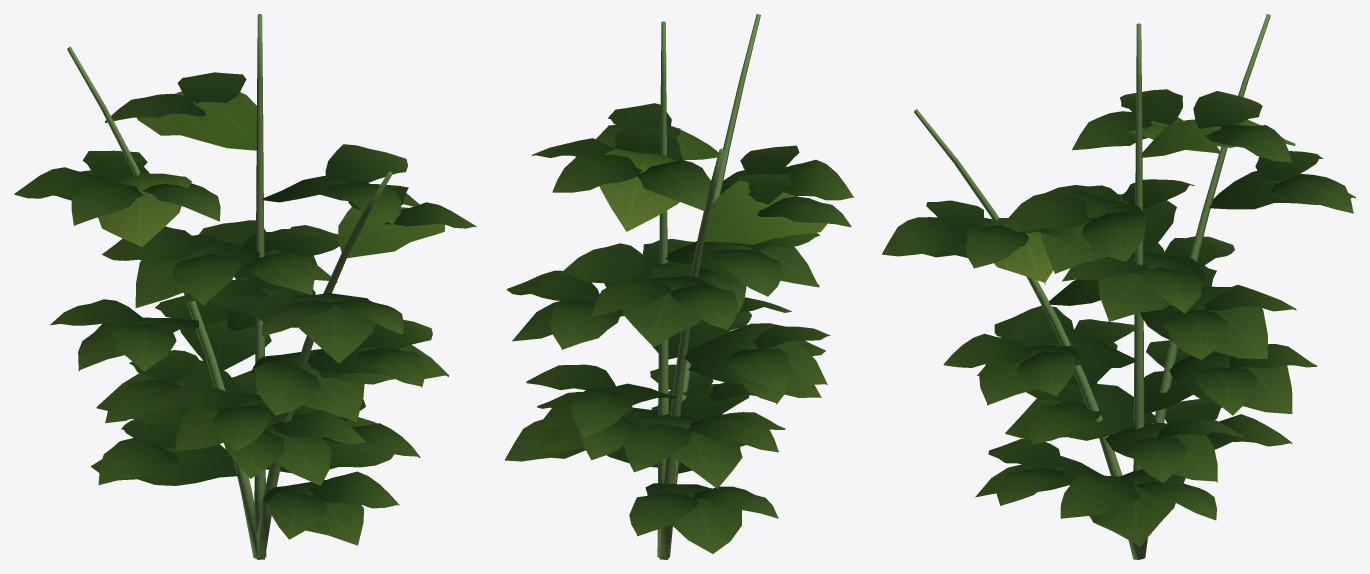
File: dahlia-06-lod.glb
The picture shows the model from 3 angles, left to right: view 1: azimuth 30°, elevation 25°; view 2: azimuth 150°, elevation 25°; view 3: azimuth 270°, elevation 25°; orthographic projection.
Visible parts, largest first — view 1: dahlia_stage_06_leaf_veins.011, dahlia_stage_06_young_leaf.011, dahlia_stage_06_stem_fibres.011; view 2: dahlia_stage_06_leaf_veins.011, dahlia_stage_06_young_leaf.011, dahlia_stage_06_stem_fibres.011; view 3: dahlia_stage_06_leaf_veins.011, dahlia_stage_06_stem_fibres.011, dahlia_stage_06_young_leaf.011.
Part boxes in pixels (bbox=[...]): dahlia_stage_06_leaf_veins.011: bbox=[14, 72, 476, 545]; dahlia_stage_06_young_leaf.011: bbox=[98, 91, 444, 258]; dahlia_stage_06_stem_fibres.011: bbox=[67, 14, 392, 559]; dahlia_stage_06_leaf_veins.011: bbox=[505, 103, 853, 553]; dahlia_stage_06_young_leaf.011: bbox=[599, 126, 827, 244]; dahlia_stage_06_stem_fibres.011: bbox=[657, 14, 760, 559]; dahlia_stage_06_leaf_veins.011: bbox=[882, 89, 1355, 546]; dahlia_stage_06_stem_fibres.011: bbox=[914, 14, 1270, 559]; dahlia_stage_06_young_leaf.011: bbox=[984, 117, 1295, 284].
Size of the model in its own units: 0.2354 by 0.3681 by 0.2959.
3 materials, 2 textured.
